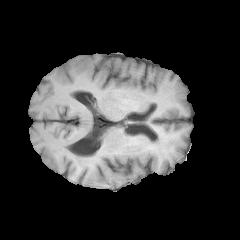glioma: (76, 137, 162, 177)
